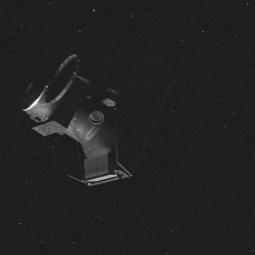cheops: (26, 48, 164, 187)
